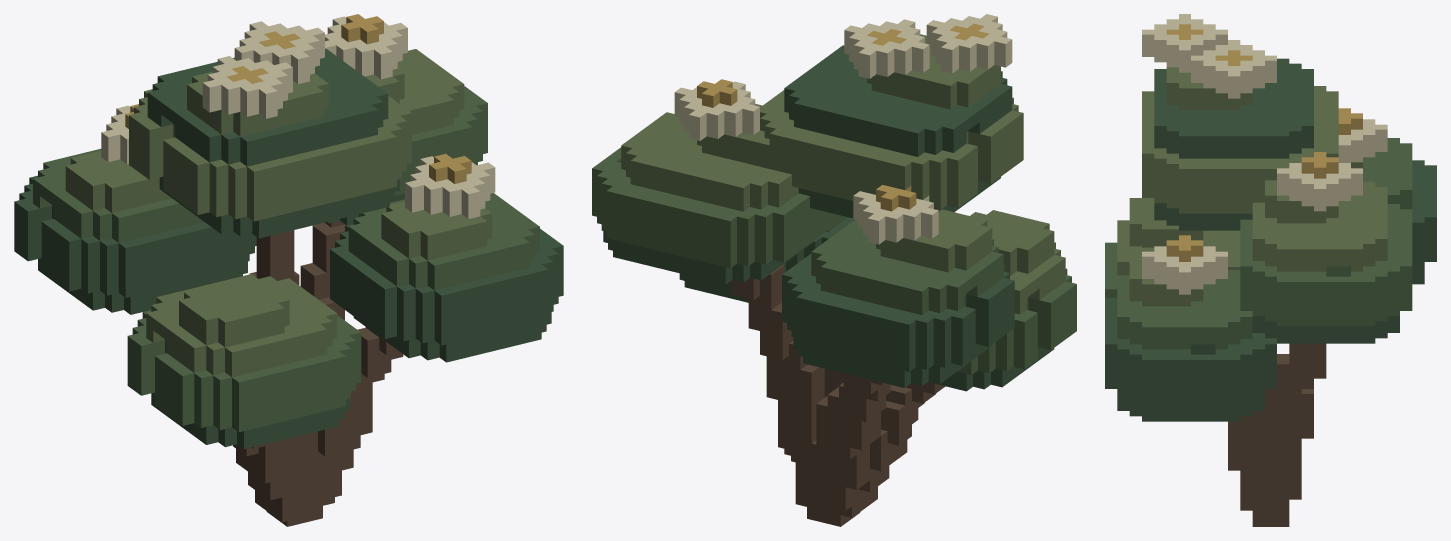
Rendered from elderberry_summer.glb.
3 renders of one model, left to right at view 1: azimuth 30°, elevation 25°; view 2: azimuth 150°, elevation 25°; view 3: azimuth 270°, elevation 25°, orthographic. The views are drawn at different scales.
Parts seen in each view (by area): view 1: VoxelVisual; view 2: VoxelVisual; view 3: VoxelVisual.
Part boxes in pixels (bbox=[...]): VoxelVisual: bbox=[14, 14, 563, 526]; VoxelVisual: bbox=[592, 14, 1076, 526]; VoxelVisual: bbox=[1105, 14, 1436, 526].
Size of what is drawn, in the model's own units: 2.12 by 2.5 by 1.69.
